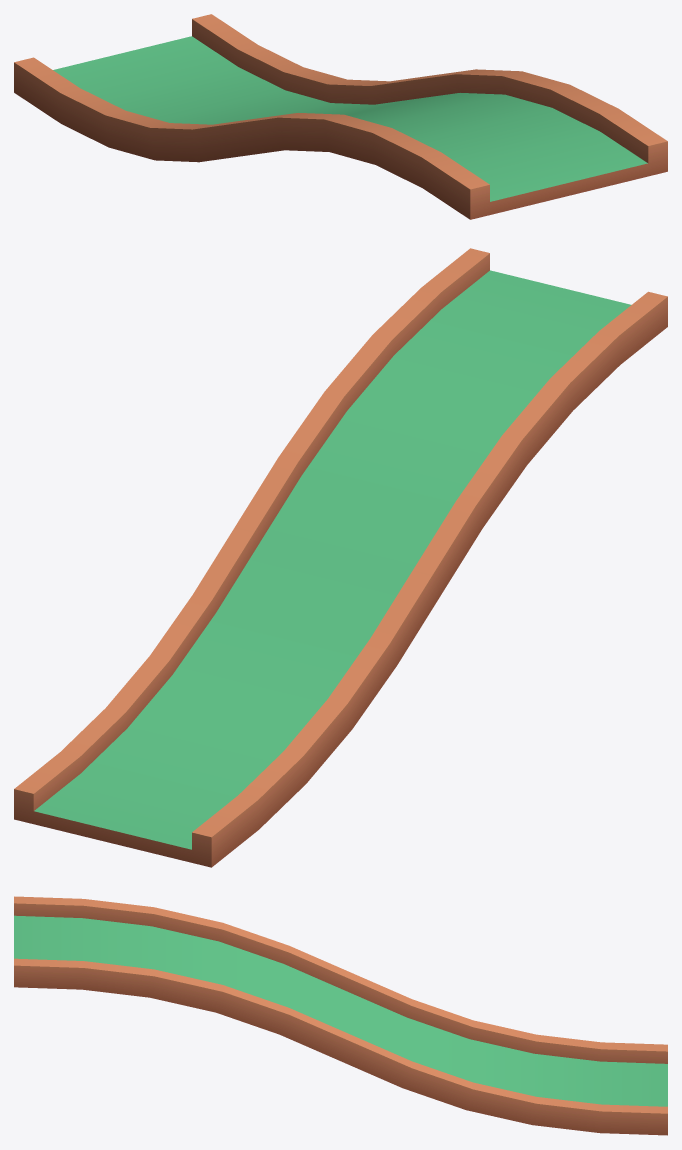
Rendered from spline-default-straight-hill-complete.glb.
3 views of the same model, one above another, from view 1: azimuth 30°, elevation 25°; view 2: azimuth 150°, elevation 25°; view 3: azimuth 270°, elevation 25° (orthographic). The views are drawn at different scales.
Visible parts, largest first — view 1: spline-default-straight-hill-complete; view 2: spline-default-straight-hill-complete; view 3: spline-default-straight-hill-complete.
Boxes of the visible parts, left/top/right/bottom form: spline-default-straight-hill-complete: left=14, top=14, right=667, bottom=219; spline-default-straight-hill-complete: left=14, top=248, right=667, bottom=867; spline-default-straight-hill-complete: left=14, top=896, right=667, bottom=1135.
Bounding box in the file's own units: 1 × 1.15 × 4.
1 material, 1 textured.
